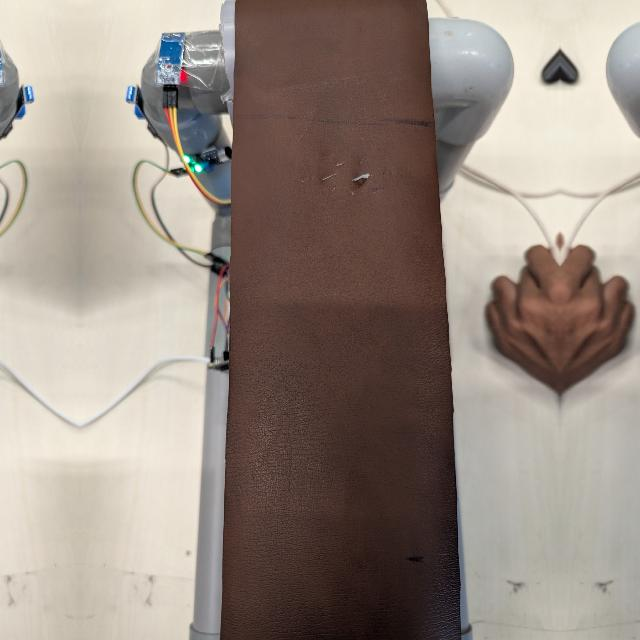joint_damage: (312, 148, 399, 211)
